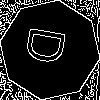D: (25, 25, 76, 68)
